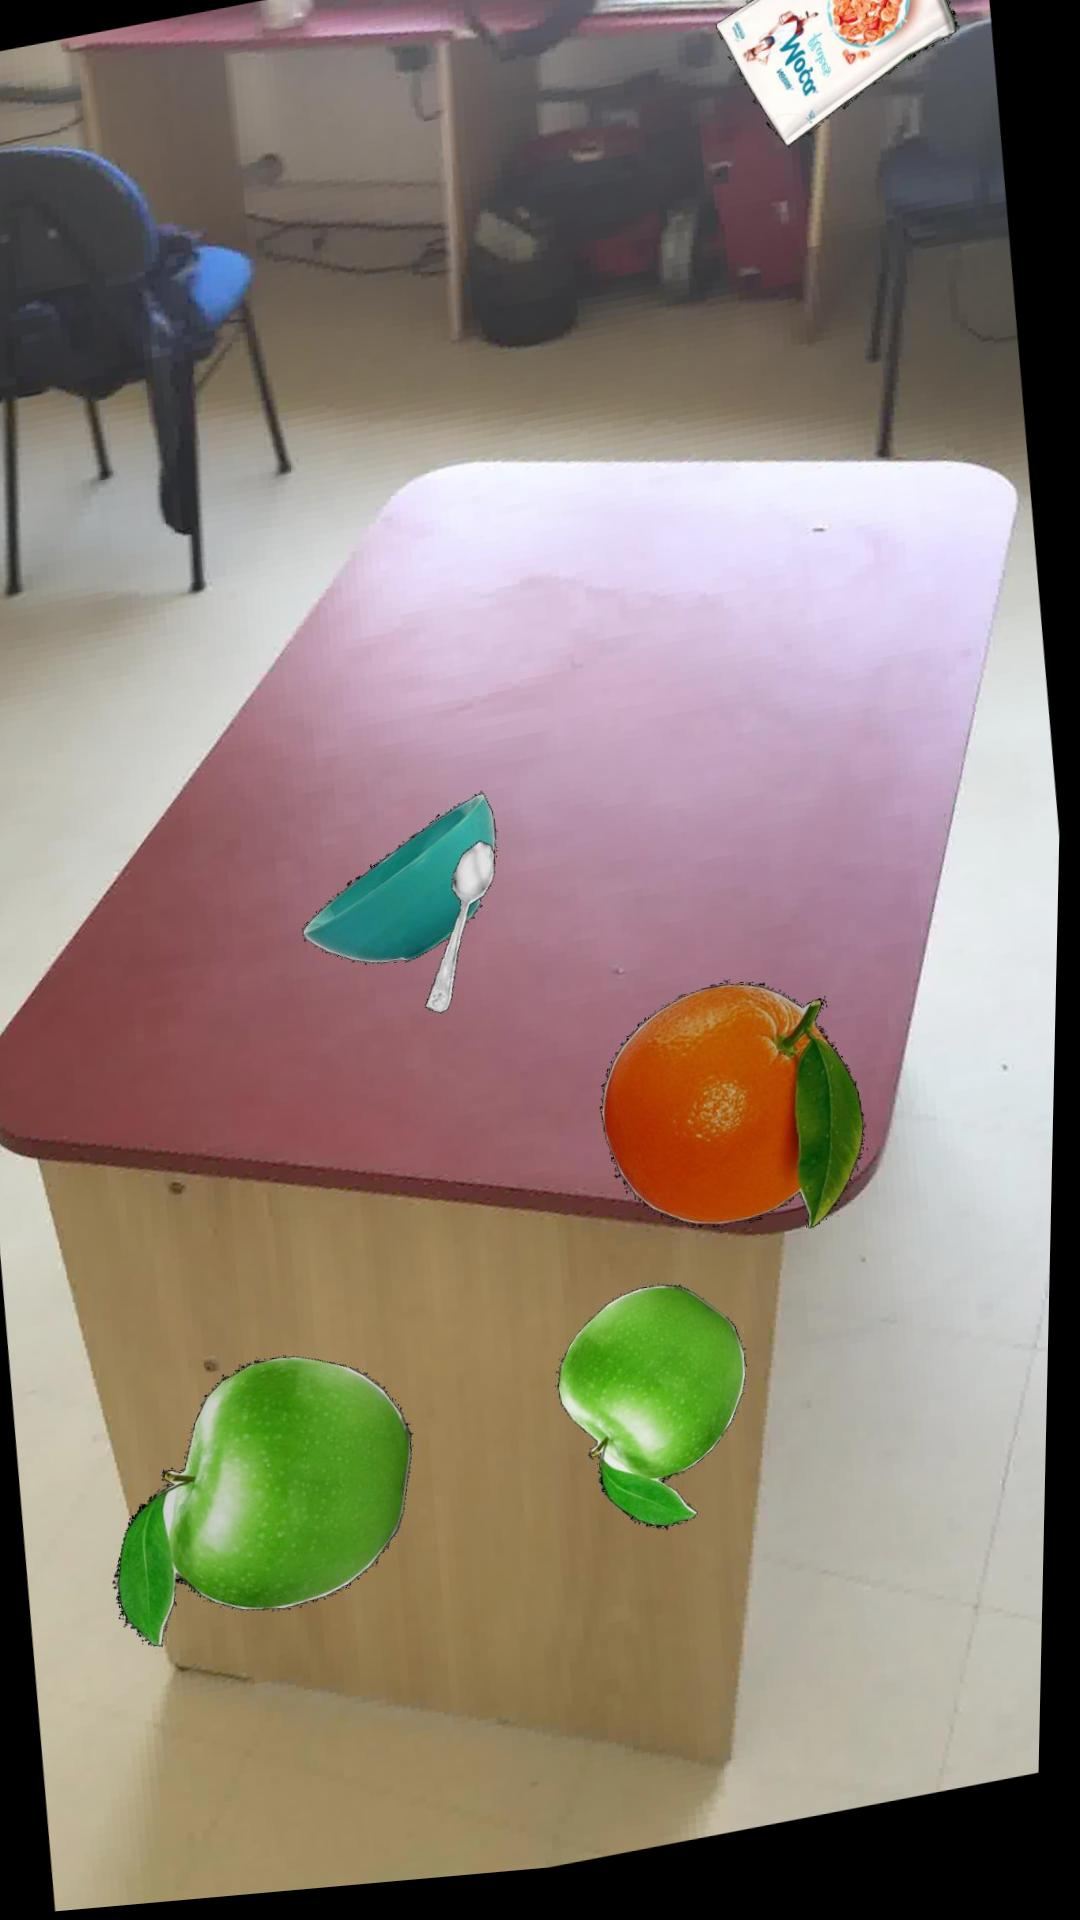bowl: (306, 800, 500, 969)
corn flakes: (715, 0, 959, 161)
green apple: (120, 1361, 419, 1650), (563, 1296, 750, 1542)
orange: (604, 996, 869, 1242)
spoon: (429, 848, 498, 1021)
